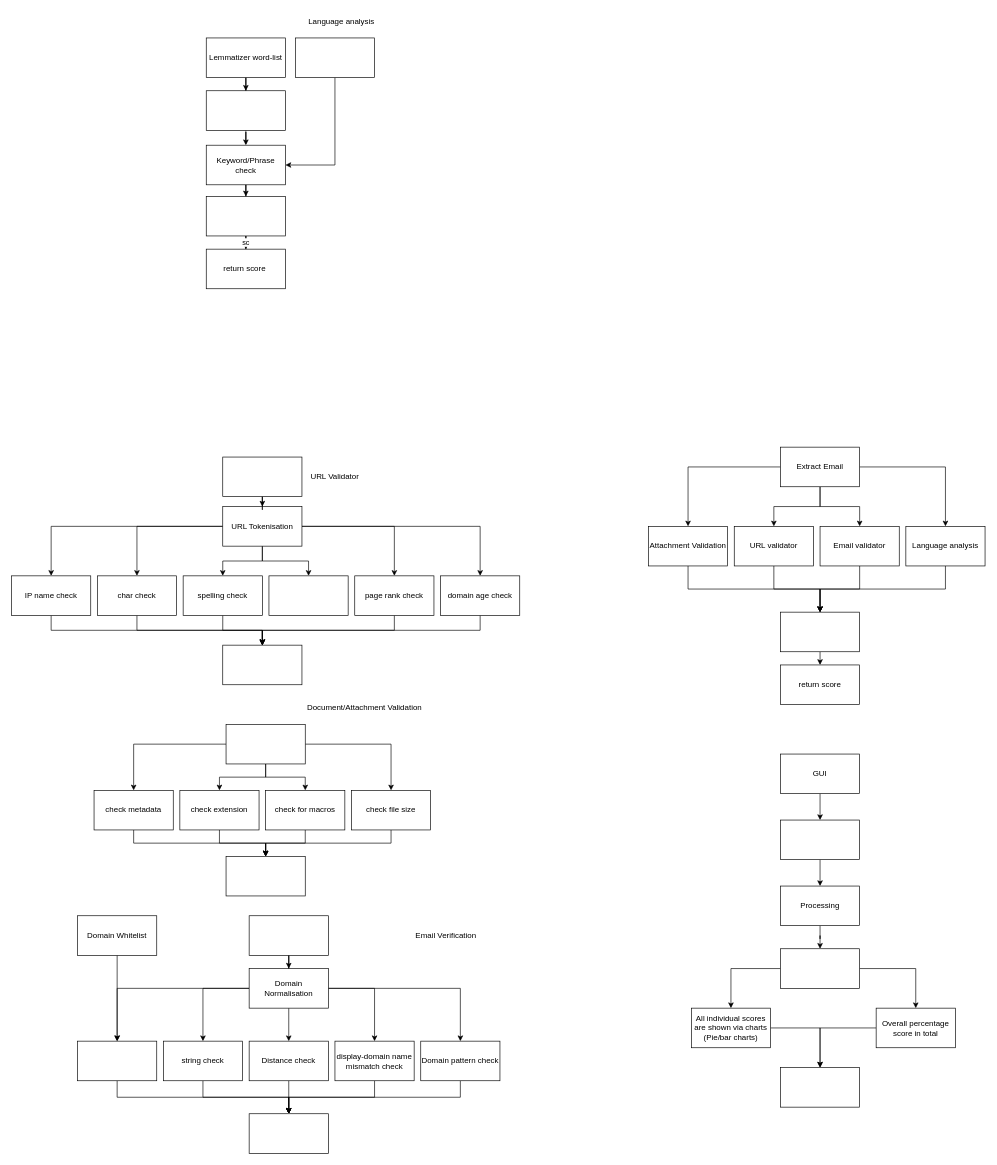
Some shapes in this 997 by 1165 pixel diagram are drawn without their labels. Here are the shapes that lost their labels. From the top down, the box of each, then its label:
(295, 37, 375, 78): Keyword/phrase list
(206, 90, 285, 130): Text Tokenisation
(206, 196, 285, 236): Word position multiplier
(222, 456, 302, 497): Email URLs
(268, 575, 348, 615): redirection check
(780, 611, 860, 652): score calculator
(222, 644, 302, 685): return score list per URL
(225, 724, 305, 764): Email Metadata Feilds
(780, 819, 860, 860): User inputs email
(225, 856, 305, 896): return score list per attachment
(248, 915, 328, 955): Email Domain
(780, 948, 860, 988): All individual sections scores are calculated
(77, 1040, 157, 1081): check whitelist
(780, 1067, 860, 1107): return final result (If it is a phishing email or not)
(248, 1113, 328, 1153): return score list
